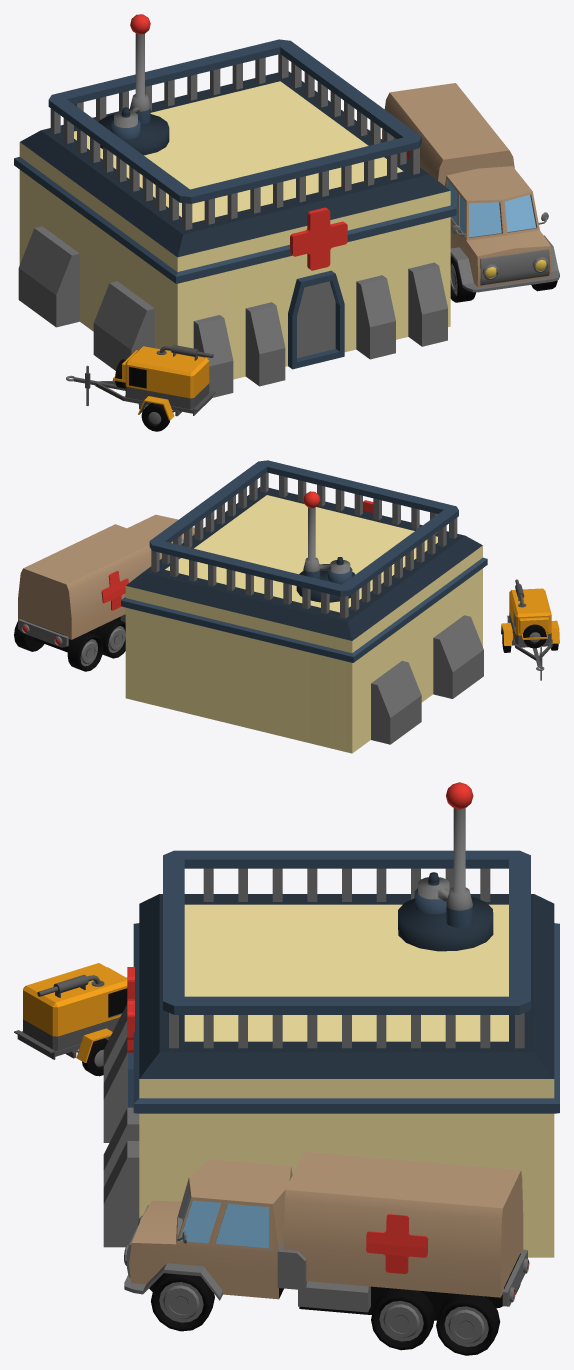
Rendered from hospital.fbx.
3 views of the same model, one above another, from view 1: azimuth 30°, elevation 25°; view 2: azimuth 150°, elevation 25°; view 3: azimuth 270°, elevation 25° (orthographic). The views are drawn at different scales.
Parts seen in each view (by area): view 1: hospital, paramedical_truck, Generator; view 2: hospital, paramedical_truck, Generator; view 3: hospital, paramedical_truck, Generator.
Boxes of the visible parts, x1,y1,x2,y2 form: hospital: [14, 14, 456, 397]; paramedical_truck: [382, 83, 559, 302]; Generator: [66, 345, 215, 431]; hospital: [121, 460, 487, 753]; paramedical_truck: [14, 514, 194, 671]; Generator: [501, 579, 559, 680]; hospital: [103, 782, 559, 1257]; paramedical_truck: [124, 1151, 529, 1355]; Generator: [14, 963, 127, 1076].
Bounding box in the file's own units: 1608 × 790 × 1105.
11 materials, 8 textured.
